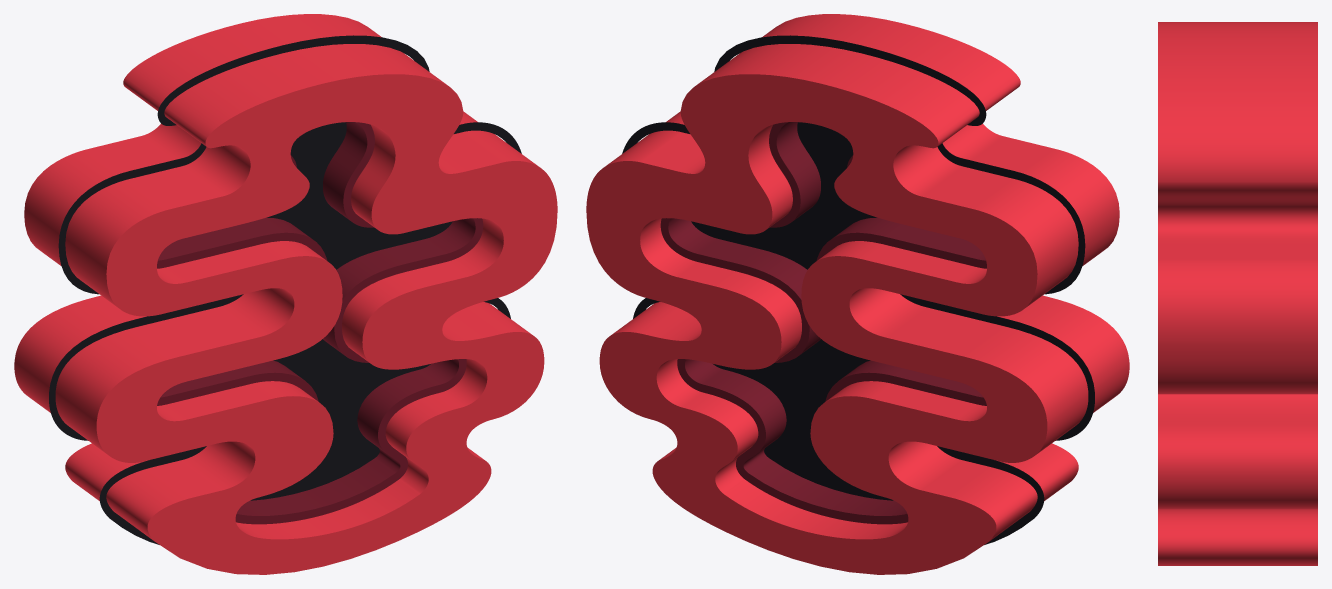
The model's file is test_fun_shape_animated.glb.
3 renders of one model, left to right at view 1: azimuth 30°, elevation 25°; view 2: azimuth 150°, elevation 25°; view 3: azimuth 270°, elevation 25°, orthographic. The views are drawn at different scales.
Parts seen in each view (by area): view 1: Curve.002, Curve.003, Curve.004, Curve.001; view 2: Curve.002, Curve.003, Curve.004, Curve.001; view 3: Curve.002.
Part boxes in pixels (x1,y1,x2,y2): Curve.002: [14, 14, 557, 574]; Curve.003: [157, 122, 483, 524]; Curve.004: [250, 122, 452, 500]; Curve.001: [49, 35, 521, 544]; Curve.002: [586, 14, 1129, 574]; Curve.003: [660, 122, 986, 524]; Curve.004: [691, 122, 893, 500]; Curve.001: [622, 35, 1094, 544]; Curve.002: [1158, 22, 1317, 565].
Size of the model in its own units: 0.1089 by 0.109 by 0.0326.
